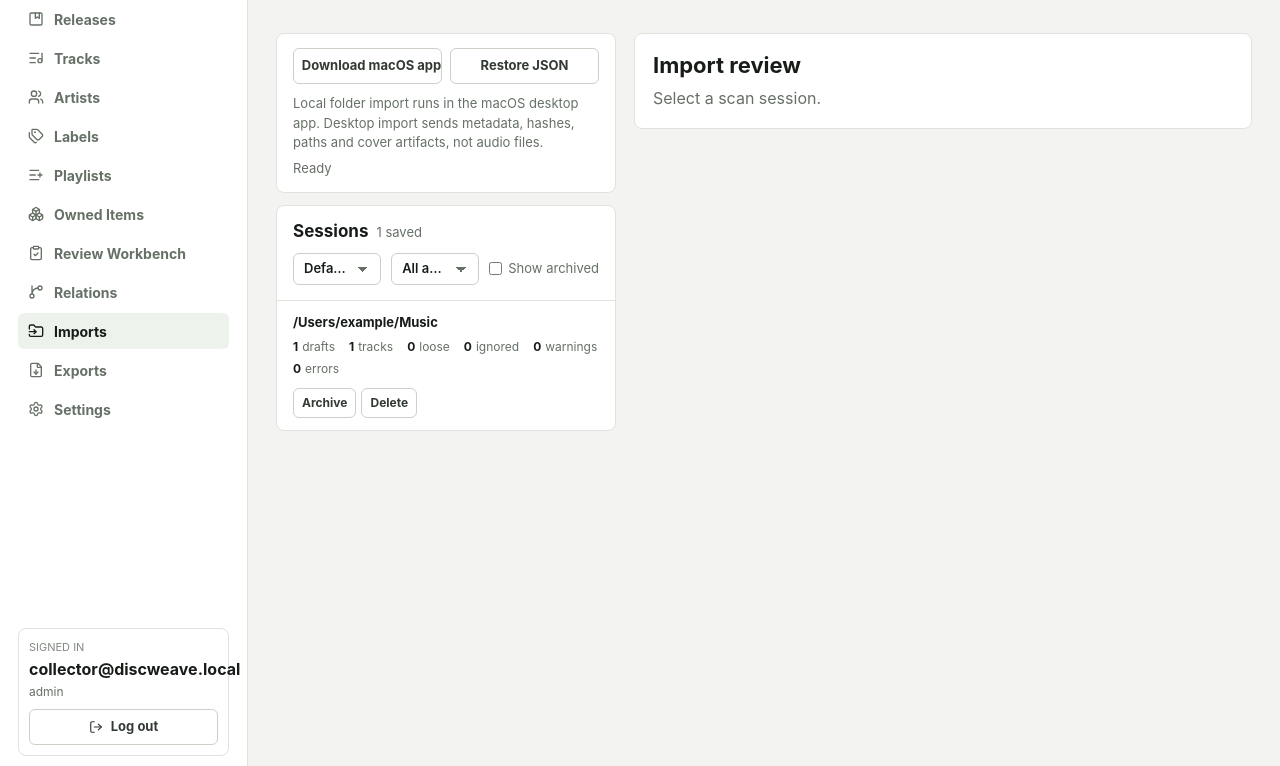
App imports and exports › marks imported credit roles that will be added on confirm
Click the button "/Users/example/Music".
click(365, 322)  # box [293, 314, 599, 331]
(page scrolled)
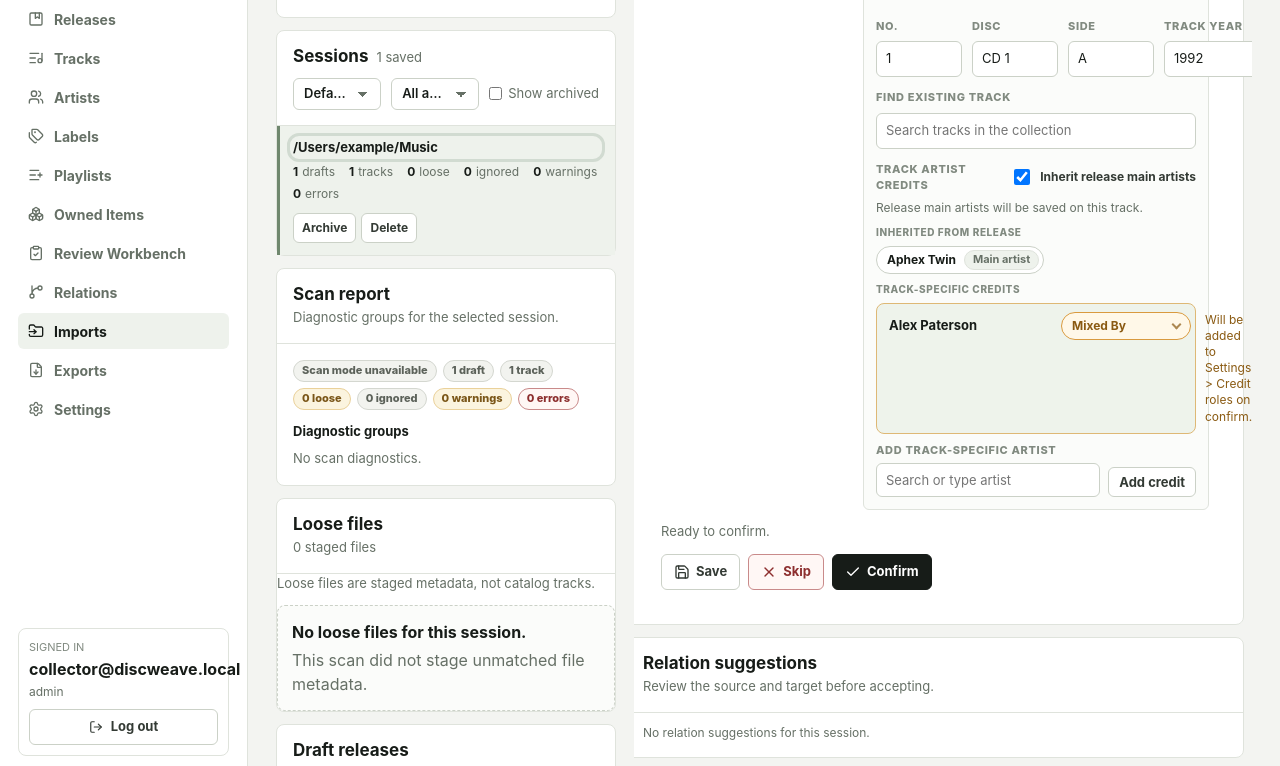
Expected: the text "Mixed By" is shown, [1072, 319, 1126, 331]
Expected: the text "Will be added to Settings > Credit roles on confirm." is shown, [1203, 311, 1252, 425]
